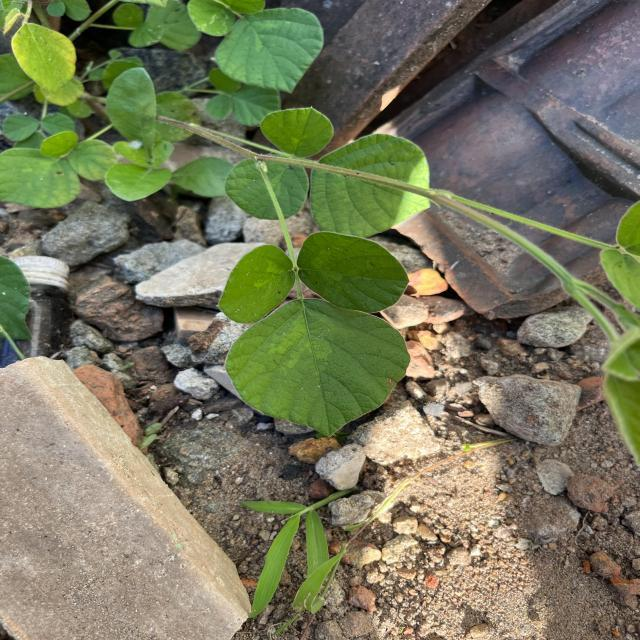Pseudarthria viscida: (215, 229, 413, 439), (224, 105, 432, 238)
